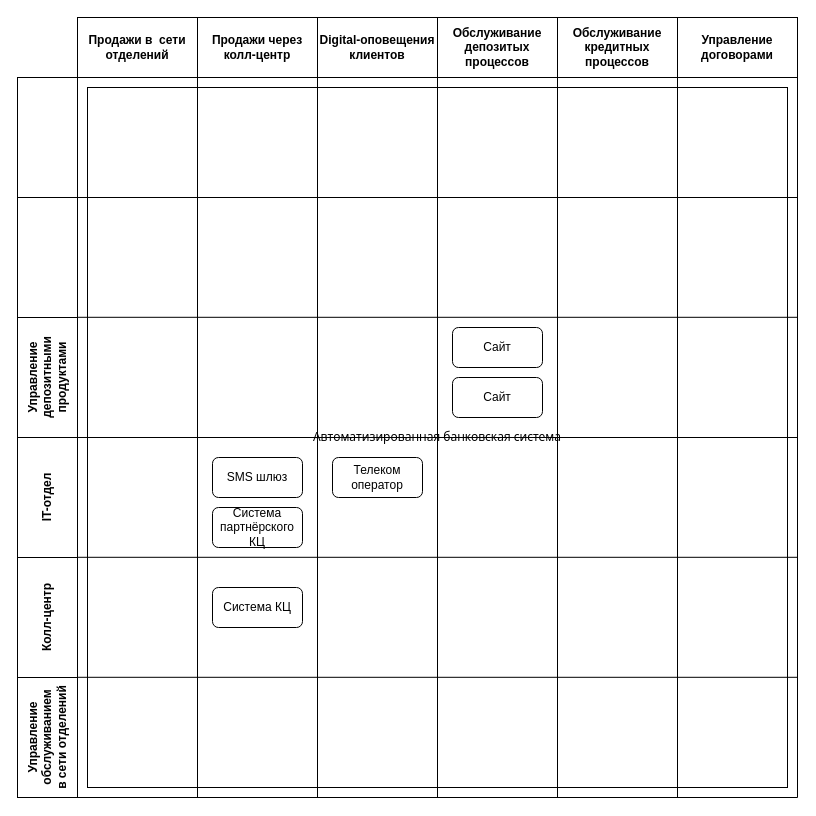
The diagram is 816 pixels wide and 816 high, and some of its shapes have lost their labels. The box of each missing label's shape, as (x1, y1, x2, y2) in pixels:
Управление кредитами продуктами: (16, 196, 78, 318)
Цифровая трансформация розничного бизнеса: (16, 76, 78, 198)
